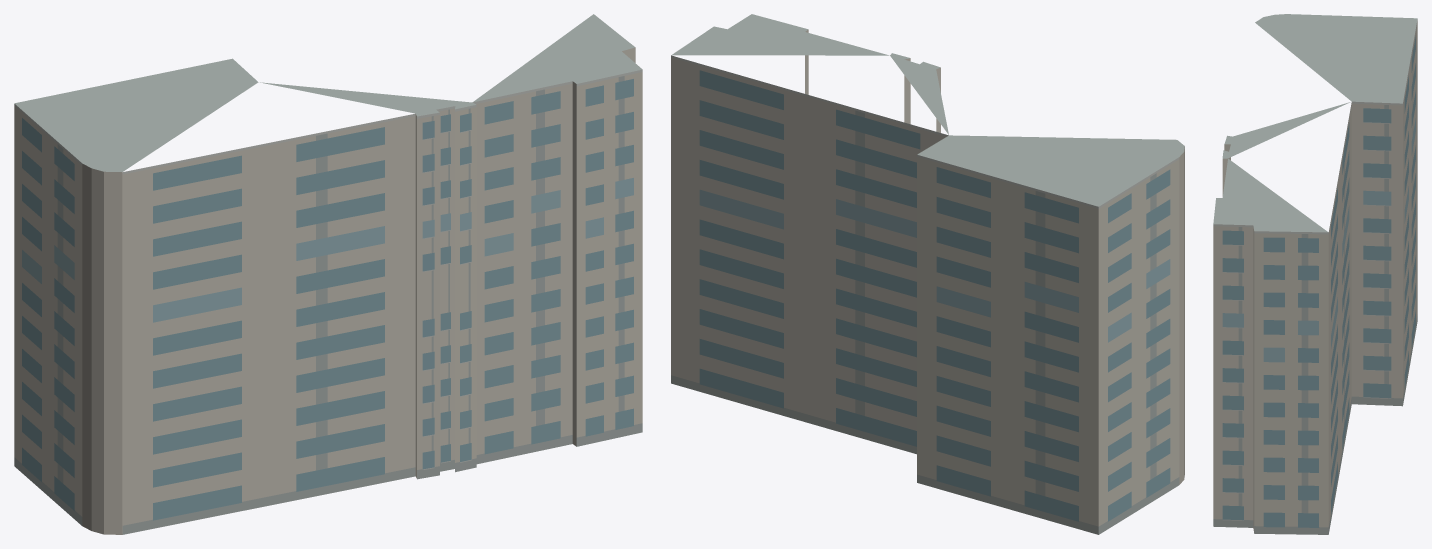
Rendered from survey-upis-32801653.glb.
3 views of the same model, side by side, from view 1: azimuth 30°, elevation 25°; view 2: azimuth 150°, elevation 25°; view 3: azimuth 270°, elevation 25° (orthographic). The views are drawn at different scales.
Parts seen in each view (by area): view 1: survey-upis-32801653.tmp; view 2: survey-upis-32801653.tmp; view 3: survey-upis-32801653.tmp.
Boxes of the visible parts, left/top/right/bottom form: survey-upis-32801653.tmp: left=14, top=14, right=642, bottom=534; survey-upis-32801653.tmp: left=671, top=14, right=1184, bottom=534; survey-upis-32801653.tmp: left=1213, top=14, right=1417, bottom=534.
Size of the model in its own units: 58.53 by 37.8 by 23.15.
